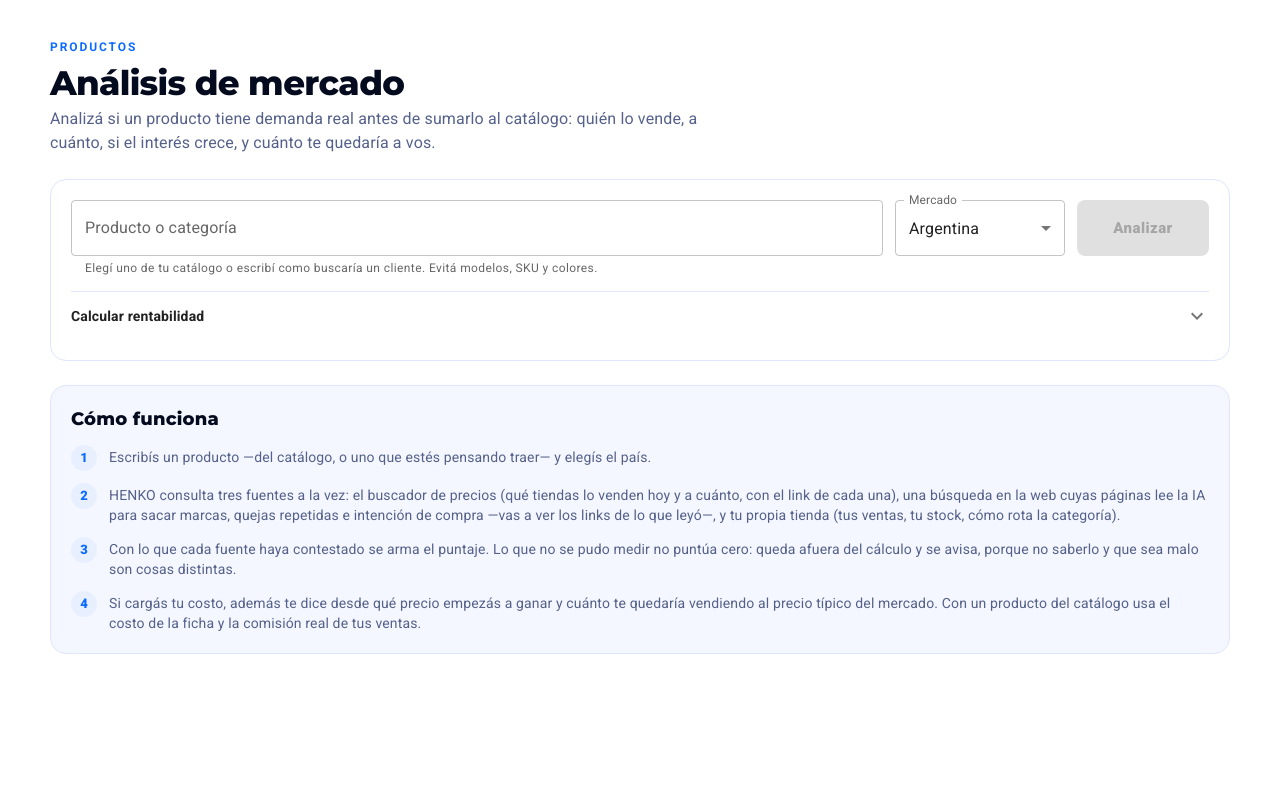
Análisis de mercado · no se afirma lo que no se midió › cada fuente dice qué aportó, y la que falló por qué
Type "Queso de Campo" into the dropdown labelled "Producto o categoría". click: (477, 228)
box: x1=80 y1=209 x2=874 y2=247
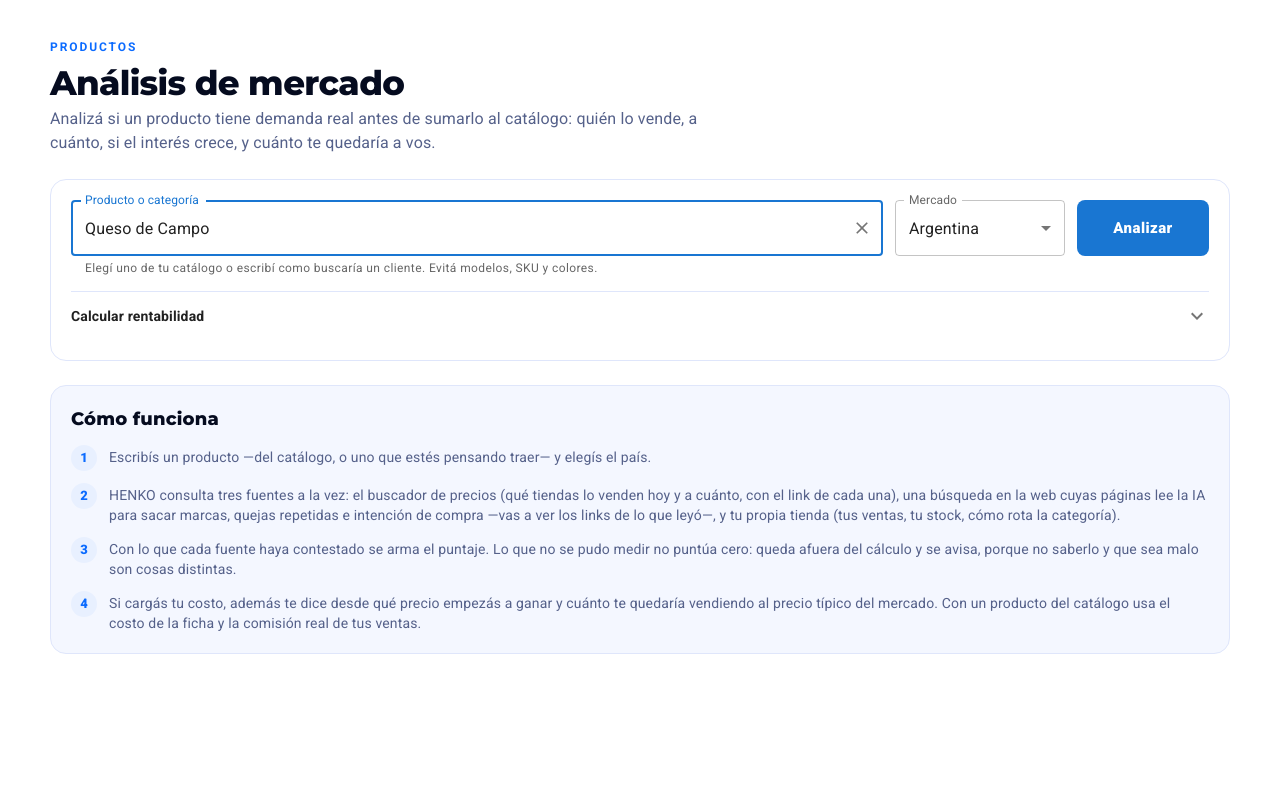
Click the button "Analizar". click: (1143, 228)
box: x1=1077 y1=200 x2=1209 y2=256
(page scrolled)
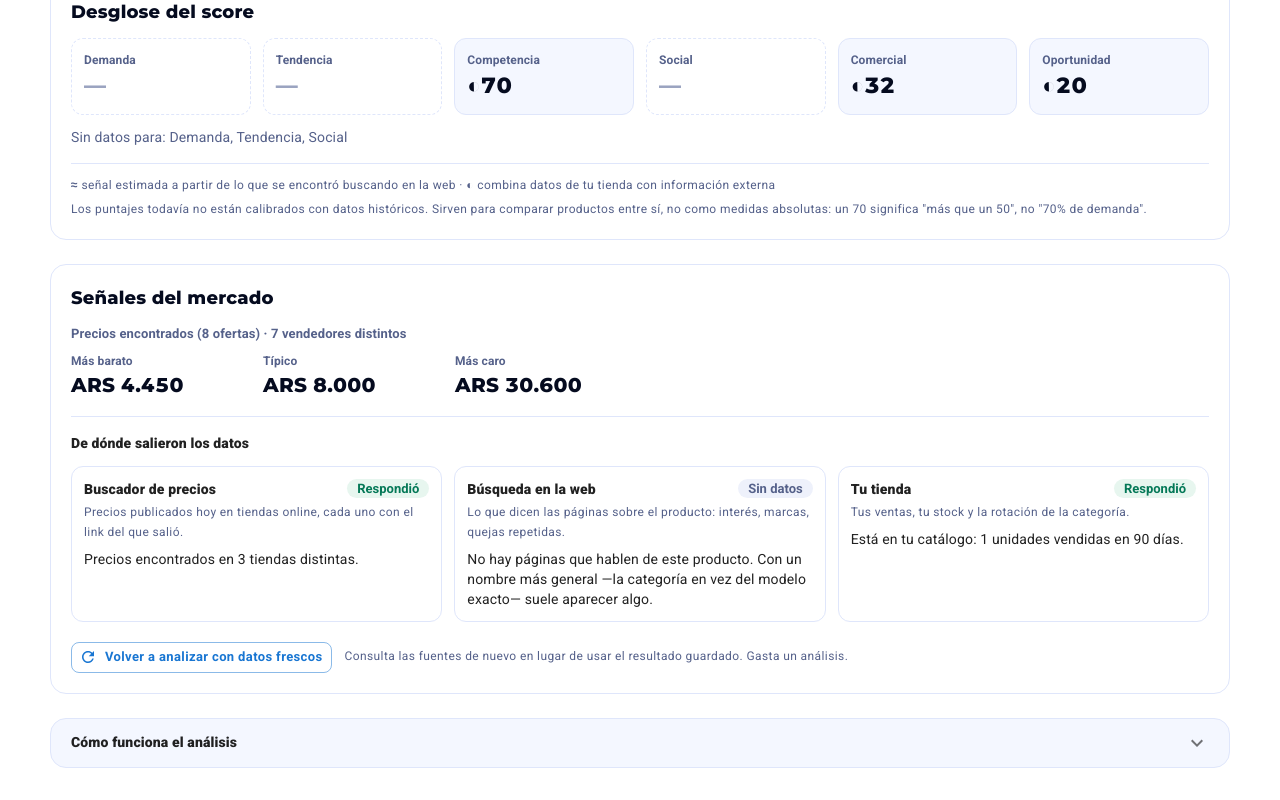
Expected: the text "De dónde salieron los datos" is shown, x1=71 y1=435 x2=249 y2=451
Expected: the text "Precios encontrados en 3 tiendas distintas." is shown, x1=84 y1=551 x2=359 y2=567
Expected: the text "No hay páginas que hablen de este producto. Con un nombre más general —la categoría en vez del modelo exacto— suele apar" is shown, x1=467 y1=551 x2=806 y2=607
